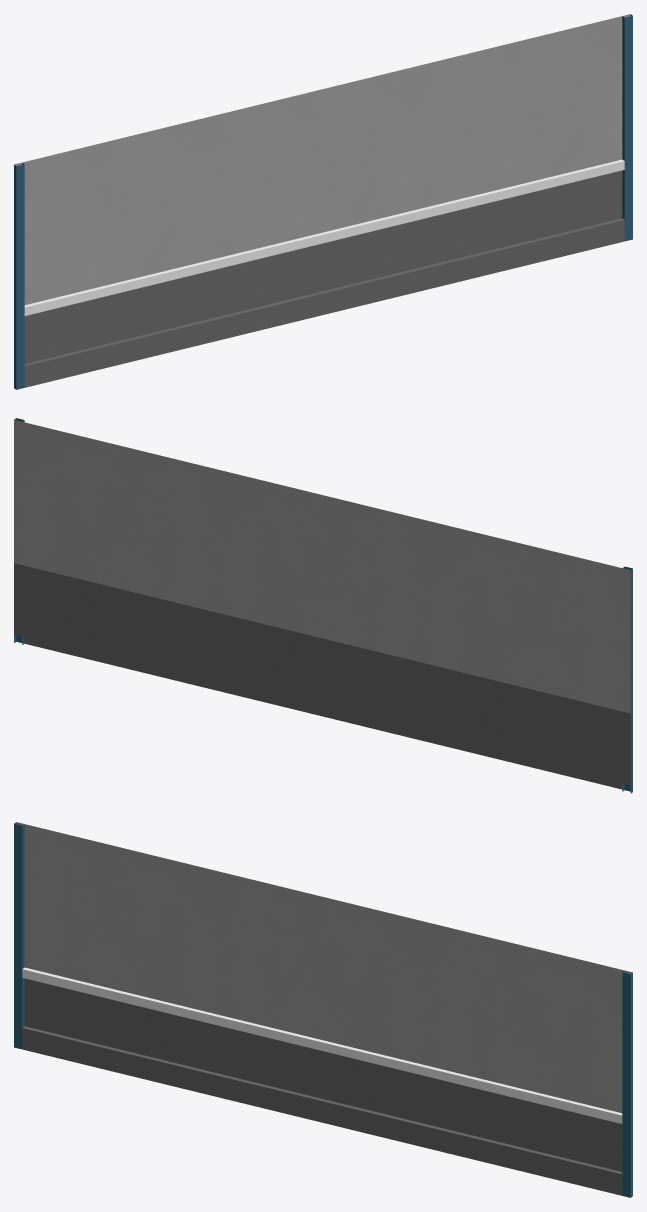
Rendered from SM06_Building_WallPanel_Exterior_01_Bottom_01.fbx.
The picture shows the model from 3 angles, top to bottom: view 1: azimuth 30°, elevation 25°; view 2: azimuth 150°, elevation 25°; view 3: azimuth 330°, elevation 25°; orthographic projection.
Parts seen in each view (by area): view 1: SM06_Building_WallPanel_Exterior_01_Bottom_01; view 2: SM06_Building_WallPanel_Exterior_01_Bottom_01; view 3: SM06_Building_WallPanel_Exterior_01_Bottom_01.
Part boxes in pixels (<box>): SM06_Building_WallPanel_Exterior_01_Bottom_01: <box>14,14,632,389</box>; SM06_Building_WallPanel_Exterior_01_Bottom_01: <box>14,418,632,793</box>; SM06_Building_WallPanel_Exterior_01_Bottom_01: <box>14,822,632,1197</box>.
Size of the model in its own units: 15 by 5.2 by 0.1.
